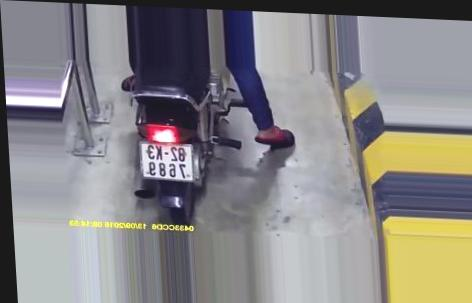License_Plate: (137, 137, 204, 187)
